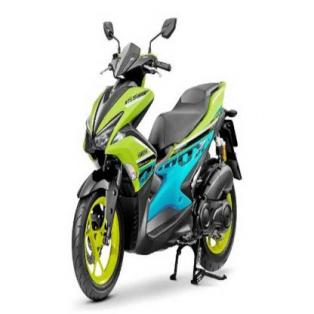Motocicleta: (64, 16, 242, 309)
